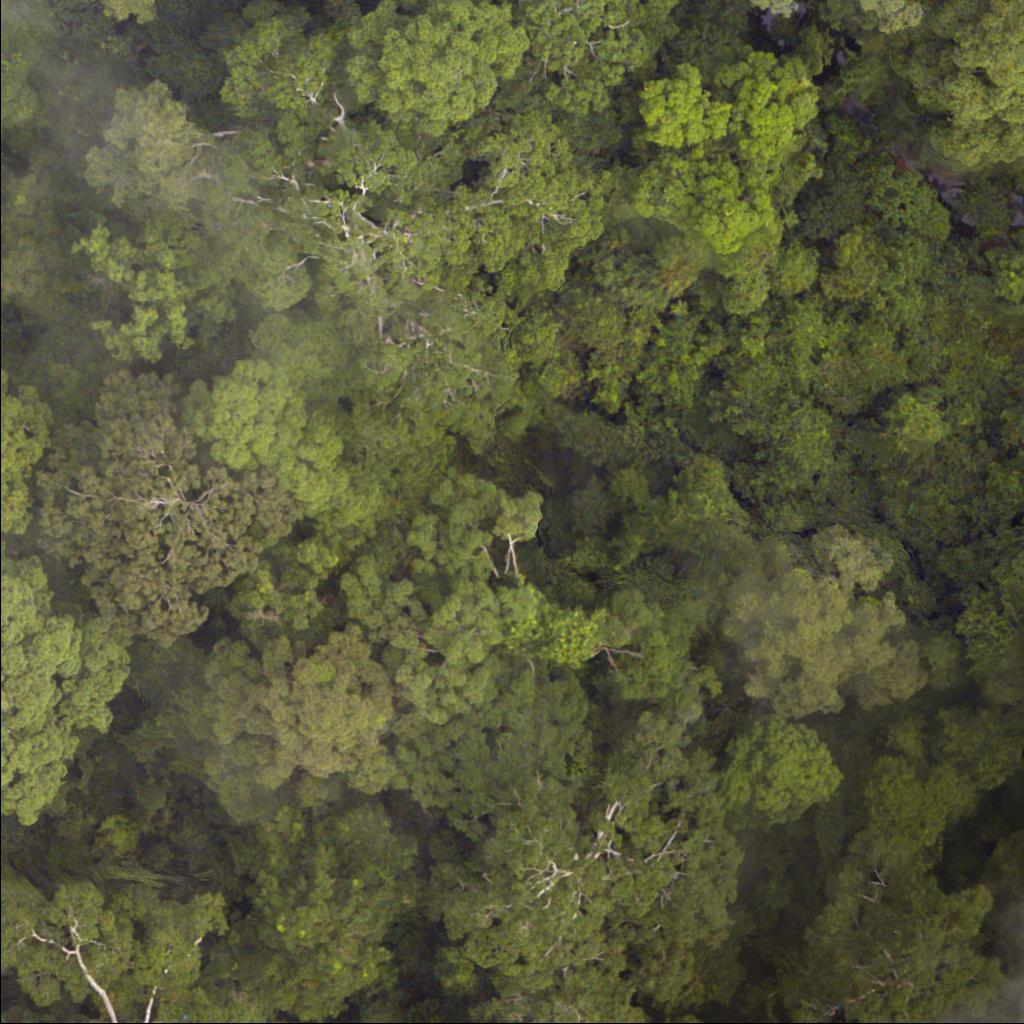crown: (71, 0, 620, 560), (58, 390, 307, 632), (611, 41, 858, 277), (801, 803, 1019, 1023), (720, 528, 923, 707), (199, 639, 388, 830), (0, 557, 132, 825), (340, 0, 538, 143), (872, 0, 1023, 168), (511, 0, 687, 113), (949, 572, 1023, 738), (858, 0, 919, 32), (751, 0, 810, 13)
